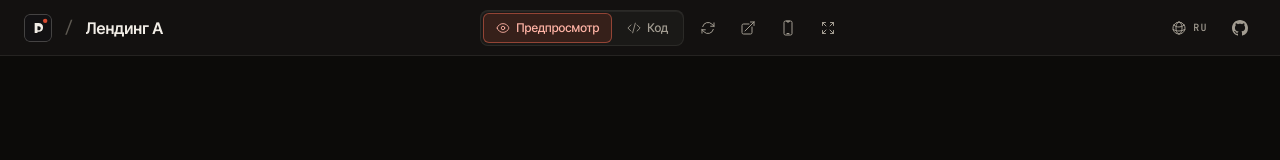
Test: Topbar › renames the current project via the inline input
The width and height of the screenshot is (1280, 160).
Click the button "Лендинг A": point(124, 28) [86,16,163,40]
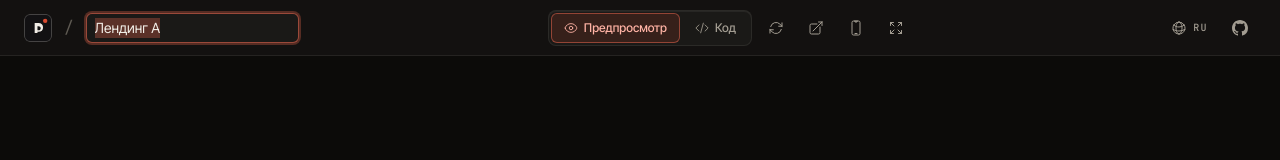
Expected: the field named "Переименовать проект" holds "Лендинг A"
Replace the text in the field named "Переименовать проект" with "Новый лендинг": point(192, 28) [86,13,299,43]
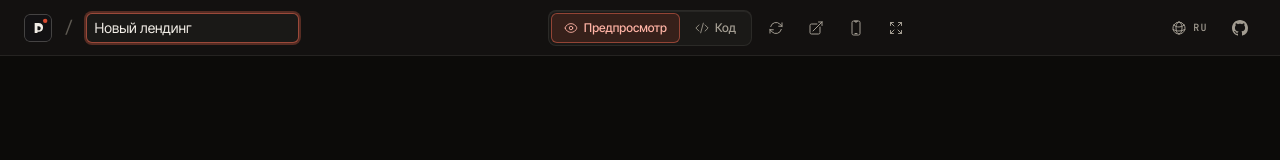
Press Enter
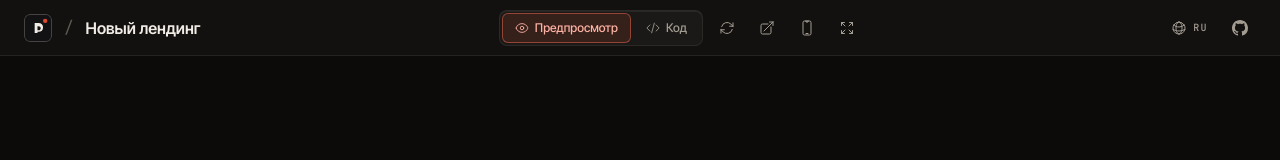
Expected: the button "Новый лендинг" is shown, [86,16,201,40]
